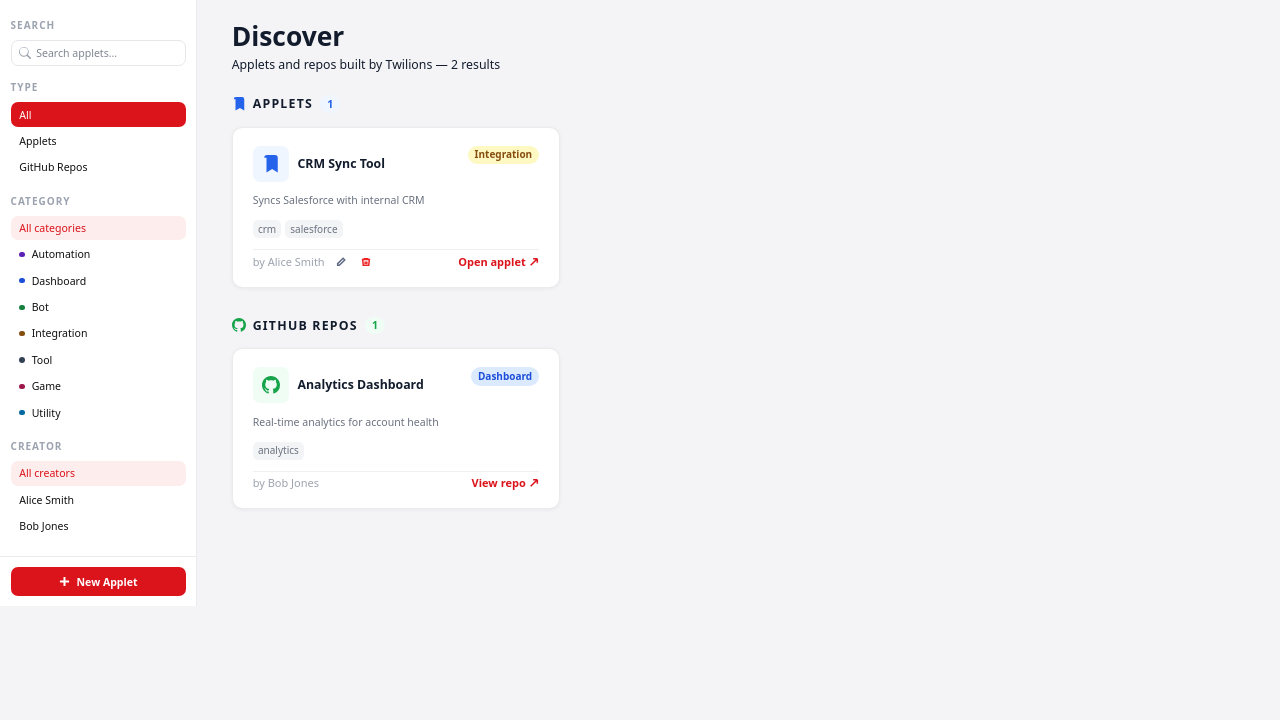
Test: DiscoverPage › clicking '+ Add Applet' shows the applet form
Expected: the heading "CRM Sync Tool" is shown, top-left (298, 155), bottom-right (385, 172)
Click the button "New Applet": (98, 582) top-left (10, 568), bottom-right (186, 596)
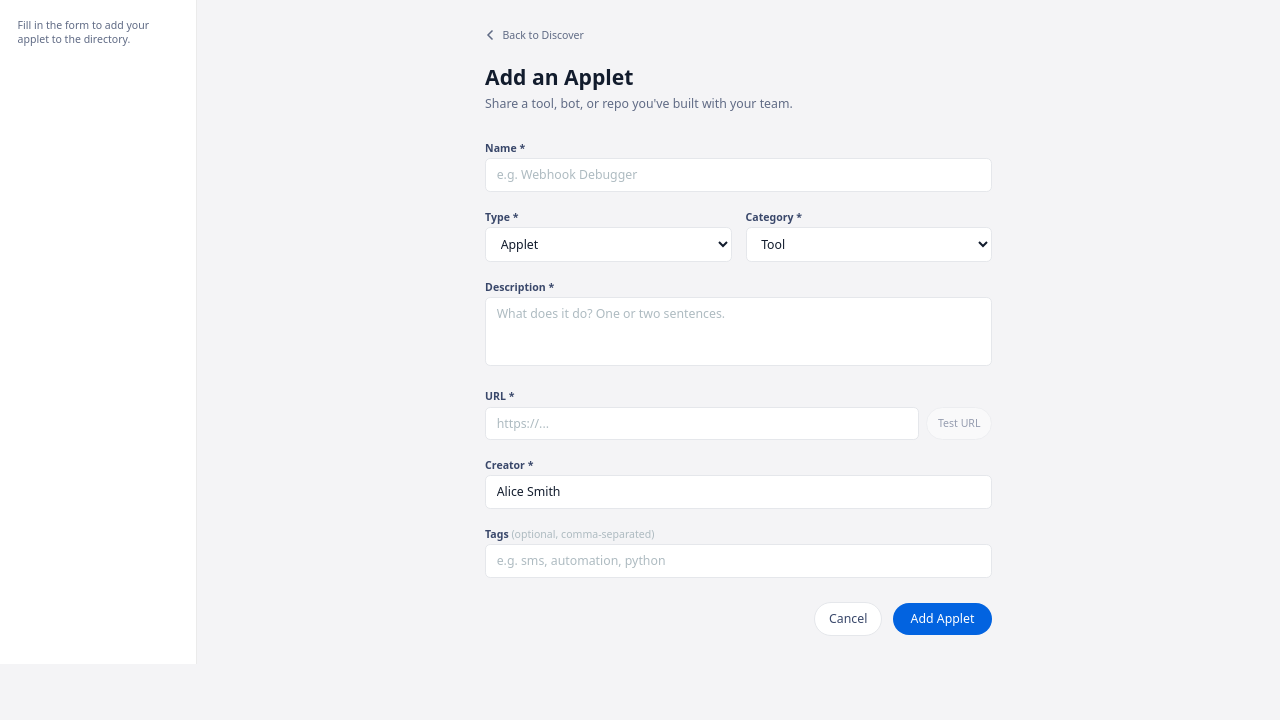
Expected: the text "Fill in the form to add your applet to the directory." is shown, top-left (18, 18), bottom-right (149, 46)
